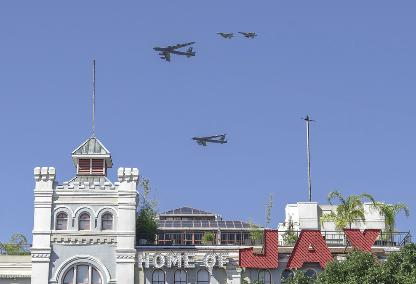B2: (152, 42, 196, 62), (190, 133, 228, 145)
F117: (238, 31, 256, 39), (216, 31, 234, 38)
